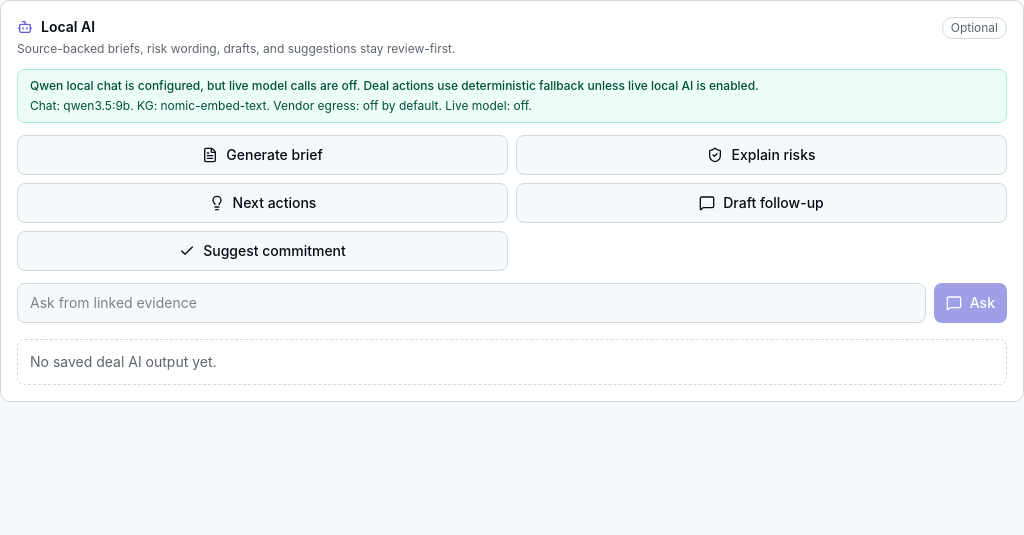
it: DealLocalAiPanel › generates a saved brief through the action
Expected: the text "live model calls are off" is shown, [30,78,759,93]
Click the button "Generate brief" at [262, 155], box [17,135,508,175]
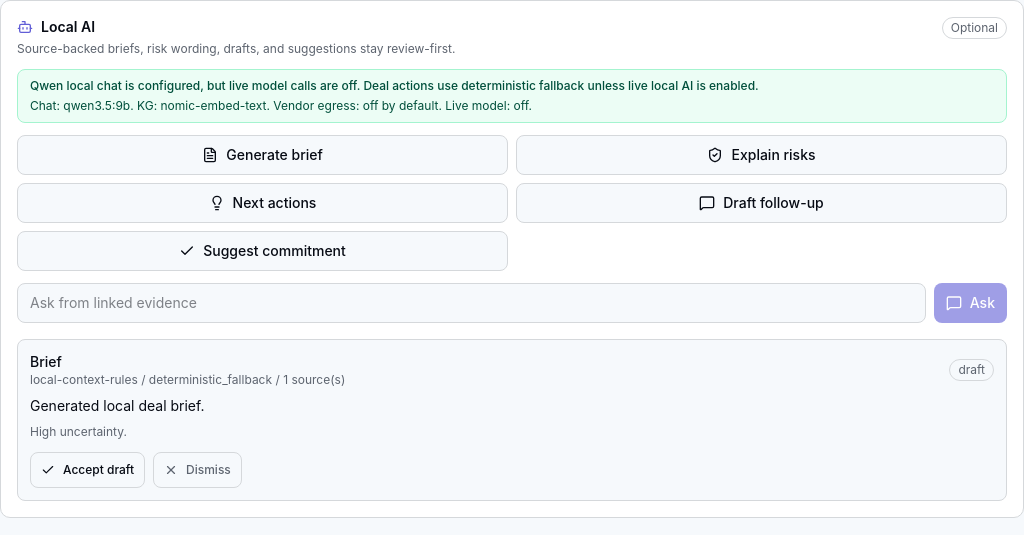
Expected: the text "Generated local deal brief." is shown, [30,397,204,414]
Expected: the text "local-context-rules / deterministic_fallback / 1 source(s)" is shown, [30,372,345,388]
